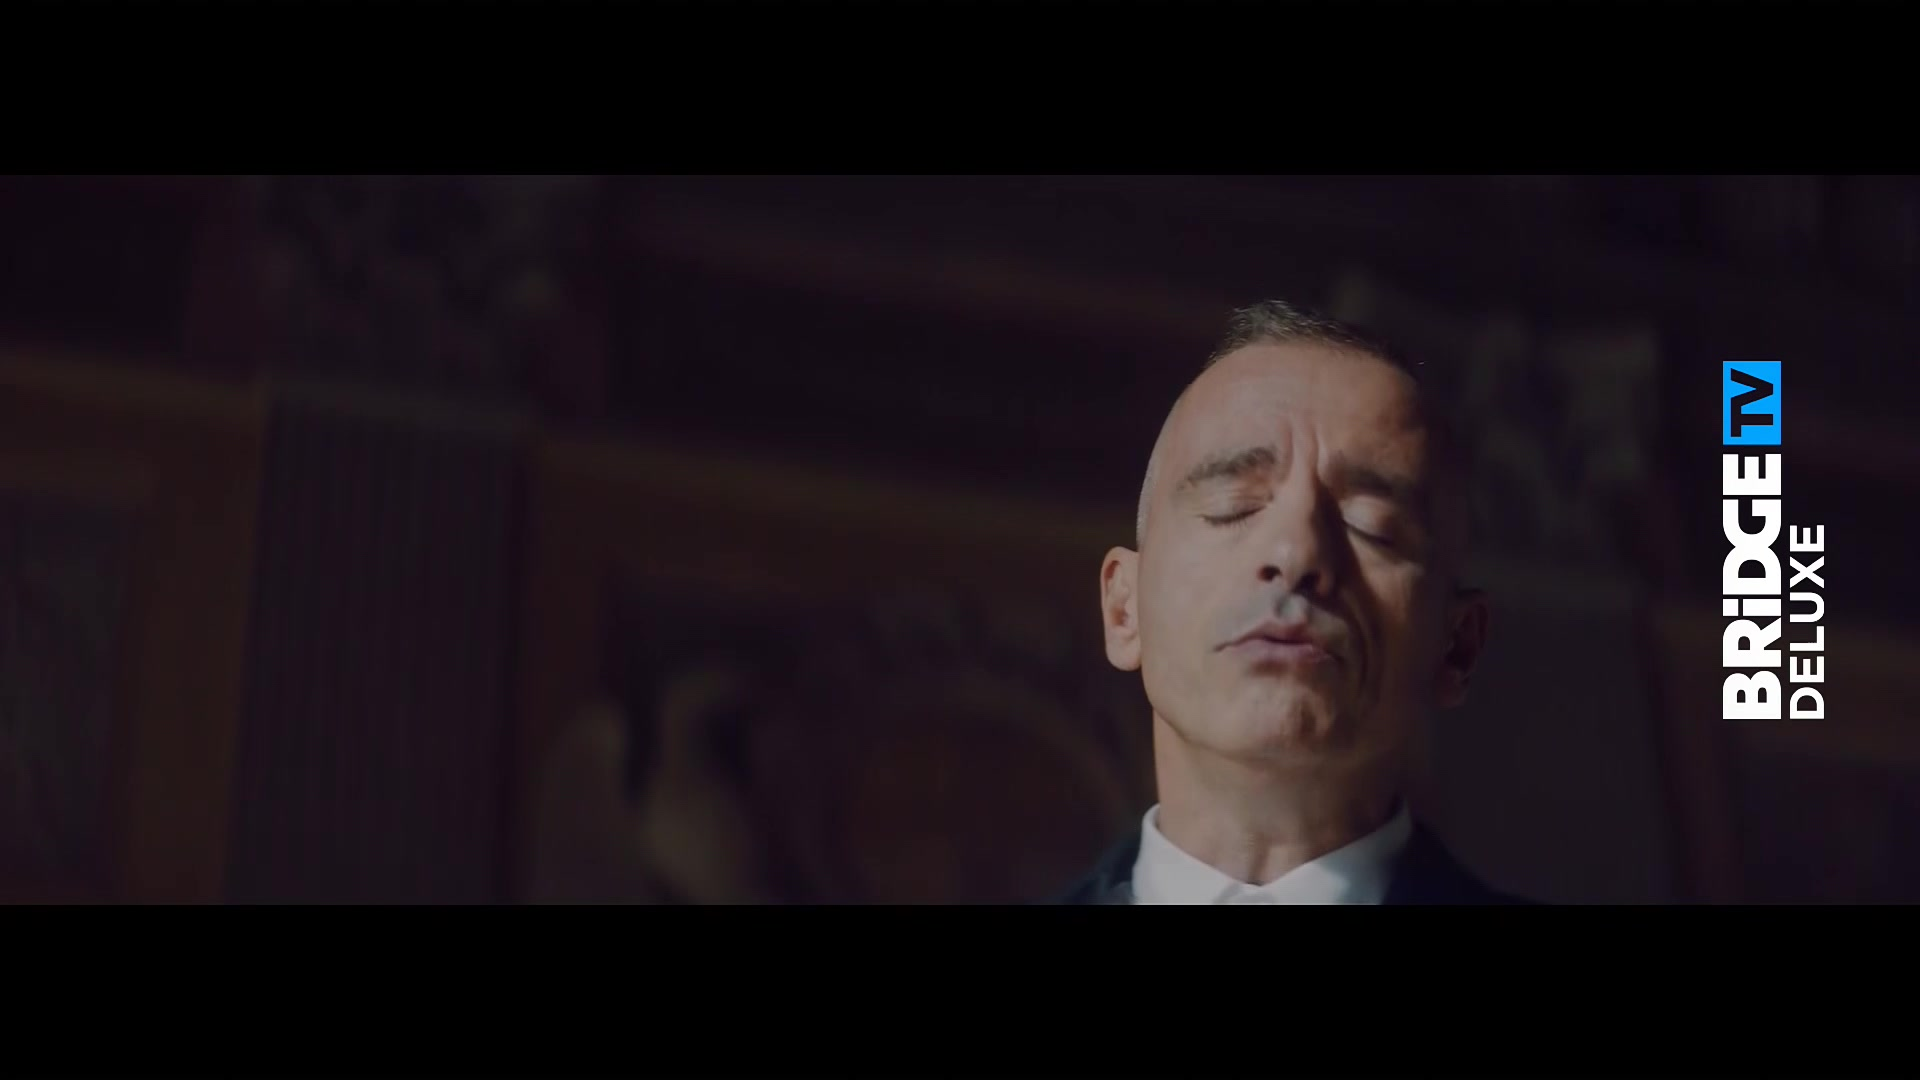Bridge_TV_Deluxe: (1716, 353, 1828, 731)
